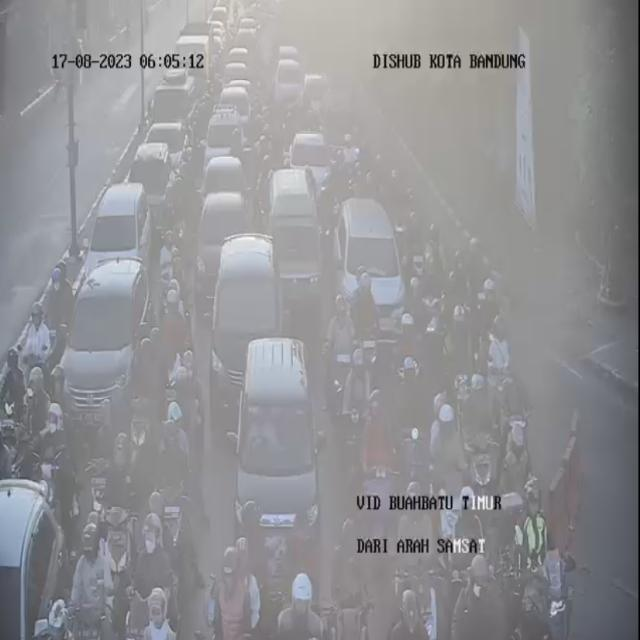cars: (234, 326, 318, 535), (58, 256, 152, 432), (210, 228, 282, 400), (337, 192, 404, 347), (267, 165, 327, 317), (84, 180, 150, 287), (192, 186, 244, 286), (134, 140, 178, 246), (202, 156, 254, 218), (266, 33, 308, 108), (286, 125, 334, 190), (154, 69, 195, 142), (217, 85, 259, 148), (204, 107, 243, 171), (149, 120, 188, 182), (220, 47, 258, 97), (176, 40, 207, 90), (207, 0, 229, 37)
motorcycle: (510, 485, 571, 640), (101, 434, 141, 622), (152, 408, 194, 585), (390, 480, 434, 640), (320, 511, 374, 640), (132, 516, 180, 639), (200, 542, 256, 640), (16, 362, 55, 496), (396, 360, 429, 514), (462, 368, 499, 503), (364, 388, 393, 560), (75, 510, 114, 637), (128, 335, 158, 490), (503, 408, 539, 533), (448, 491, 486, 604), (90, 388, 122, 520), (430, 402, 461, 534), (349, 263, 382, 381), (452, 548, 491, 640), (483, 310, 515, 420), (20, 295, 49, 410), (44, 260, 76, 362), (422, 251, 447, 381), (442, 304, 474, 404), (0, 338, 25, 463), (277, 569, 321, 640), (330, 296, 358, 402), (166, 341, 202, 421), (43, 403, 73, 493), (169, 278, 196, 358), (138, 591, 182, 640), (420, 217, 446, 297), (465, 231, 491, 307), (408, 263, 426, 370), (156, 228, 182, 300), (479, 275, 499, 366), (448, 247, 469, 328), (39, 598, 79, 640), (396, 310, 414, 396)
